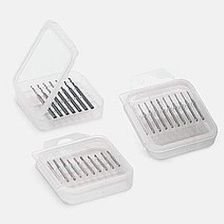plastic_box: (5, 13, 108, 135), (112, 61, 224, 165), (22, 127, 139, 209)
